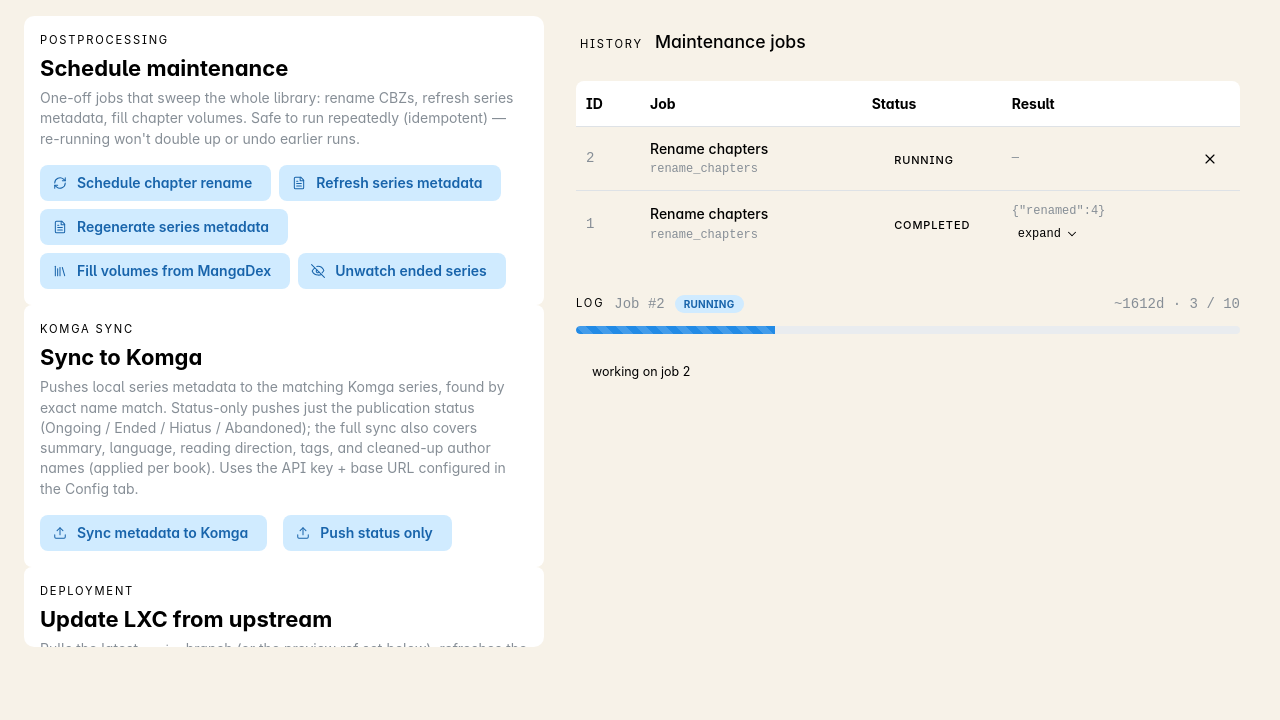
it: MaintenancePanel › switches the log to the row the user clicks
Expected: the text "Job #2" is shown, [614, 294, 665, 314]
Expected: the text "working on job 2" is shown, [592, 364, 690, 379]
# Click the older row → log should swap to job 1.
Click the text "1".
click(590, 224)  # box [586, 216, 594, 232]
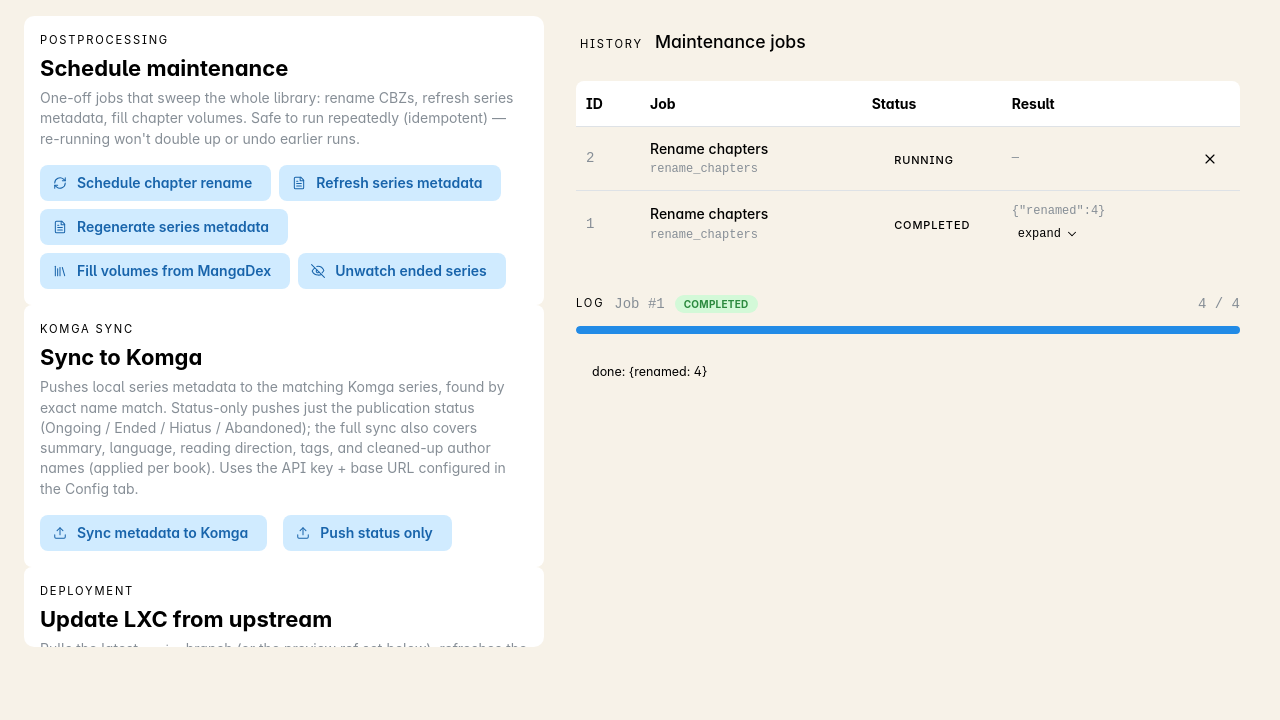
Expected: the text "Job #1" is shown, [614, 294, 665, 314]
Expected: the text "done: {renamed: 4}" is shown, [592, 364, 707, 379]
